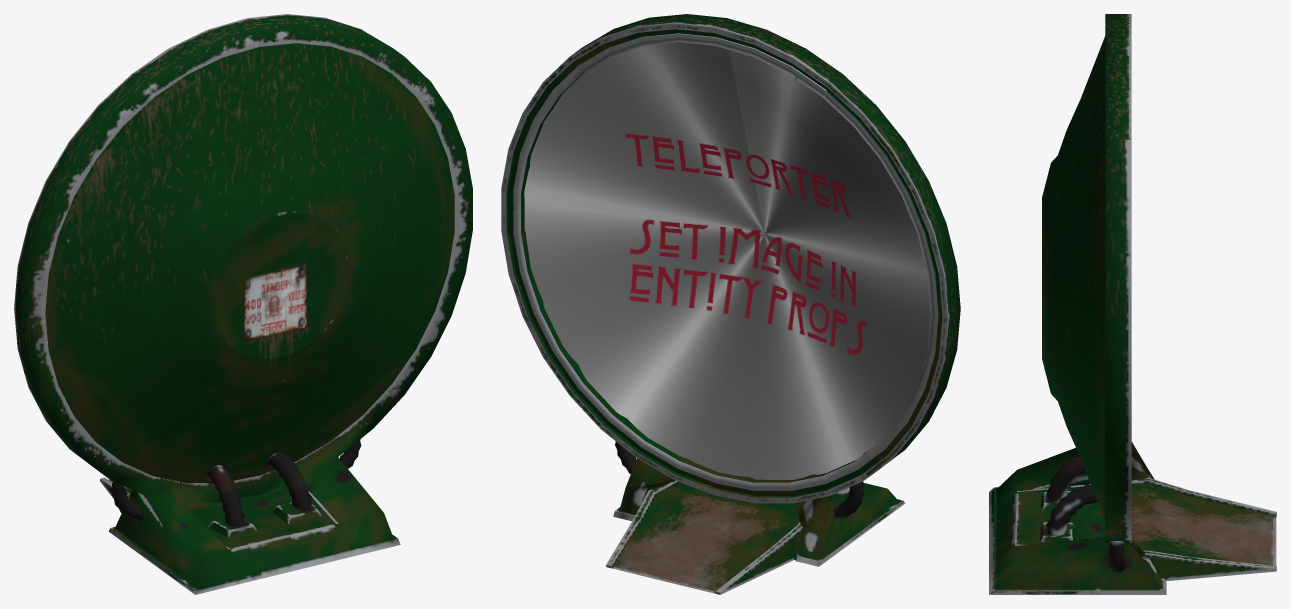
Rendered from mPortalFrame_5.fbx.
The picture shows the model from 3 angles, left to right: view 1: azimuth 30°, elevation 25°; view 2: azimuth 150°, elevation 25°; view 3: azimuth 270°, elevation 25°; orthographic projection. The views are drawn at different scales.
Parts seen in each view (by area): view 1: portalEmpire; view 2: portalDisc, portalEmpire; view 3: portalEmpire.
Boxes of the visible parts, x1,y1,x2,y2 form: portalEmpire: [14, 14, 472, 594]; portalDisc: [524, 42, 930, 479]; portalEmpire: [501, 14, 960, 594]; portalEmpire: [989, 14, 1276, 594].
Bounding box in the file's own units: 126 × 134 × 68.42.
2 materials, 2 textured.
